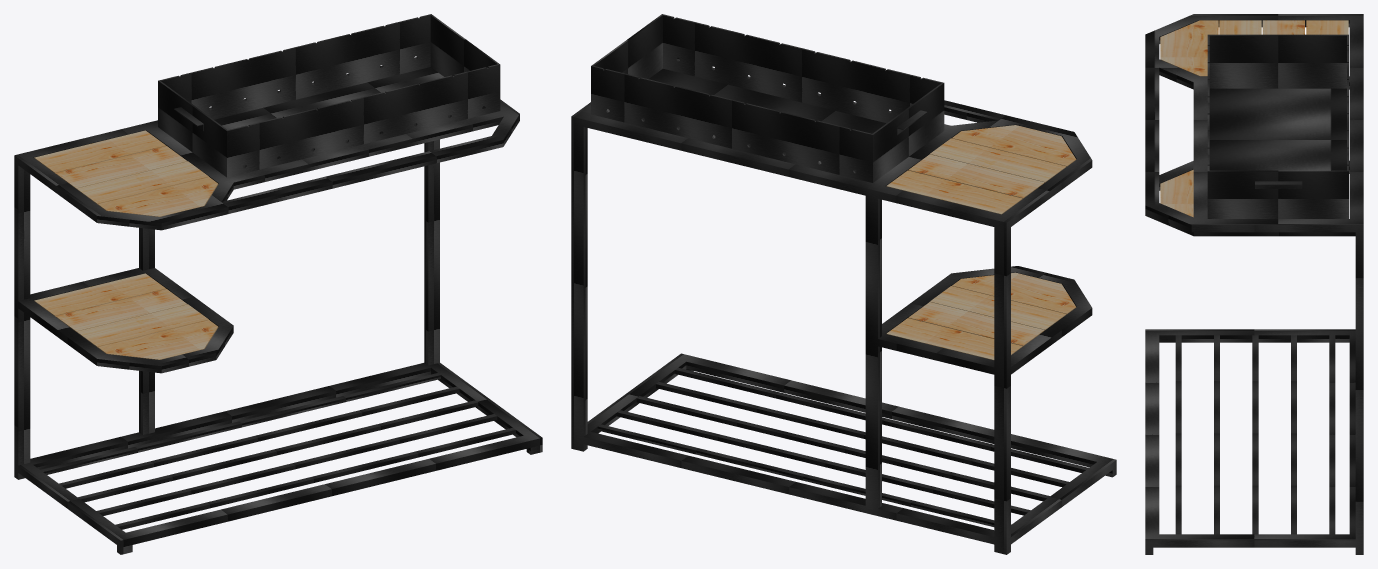
3 renders of one model, left to right at view 1: azimuth 30°, elevation 25°; view 2: azimuth 150°, elevation 25°; view 3: azimuth 270°, elevation 25°, orthographic. The views are drawn at different scales.
Parts seen in each view (by area): view 1: geometry-lumionModel, geometry-lumionModel.001; view 2: geometry-lumionModel, geometry-lumionModel.001; view 3: geometry-lumionModel, geometry-lumionModel.001.
Boxes of the visible parts, left/top/right/bottom form: geometry-lumionModel: left=14, top=14, right=542, bottom=554; geometry-lumionModel.001: left=34, top=130, right=218, bottom=359; geometry-lumionModel: left=571, top=14, right=1116, bottom=554; geometry-lumionModel.001: left=886, top=125, right=1076, bottom=360; geometry-lumionModel: left=1145, top=14, right=1363, bottom=554; geometry-lumionModel.001: left=1160, top=20, right=1348, bottom=217.
Size of the model in its own units: 1.24 by 1.03 by 0.54.
2 materials, 2 textured.
